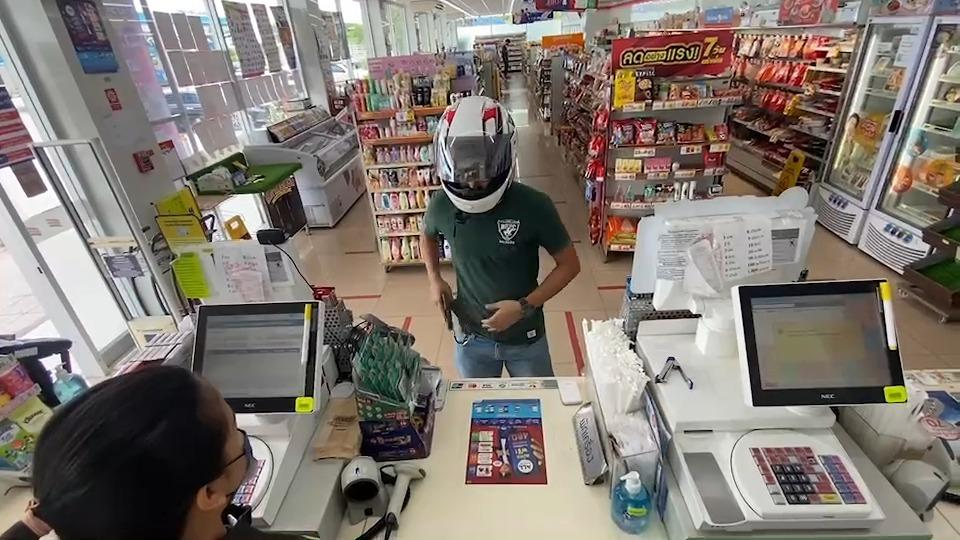criminal: (416, 94, 584, 377)
